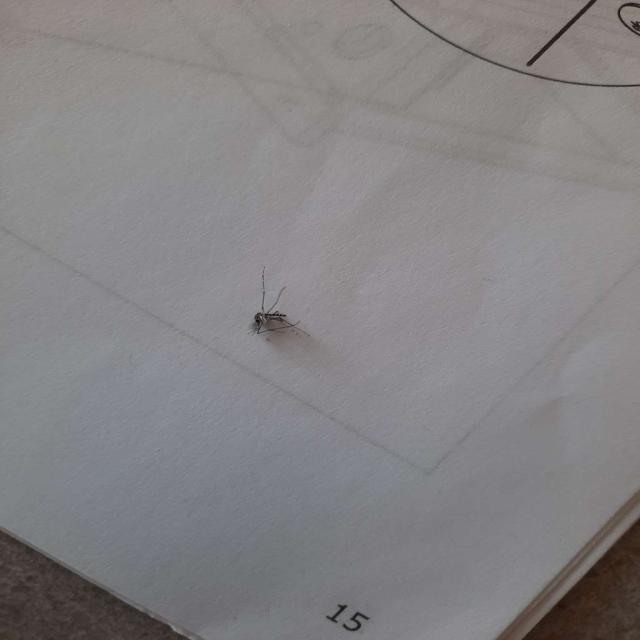albopictus: (233, 266, 314, 342)
